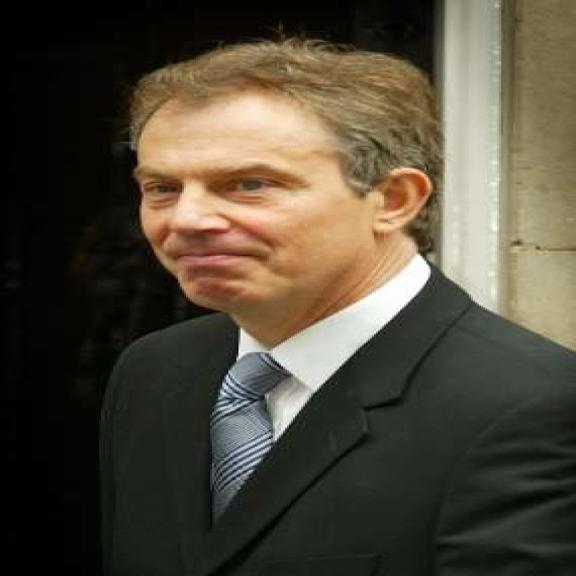face: (135, 99, 435, 313)
